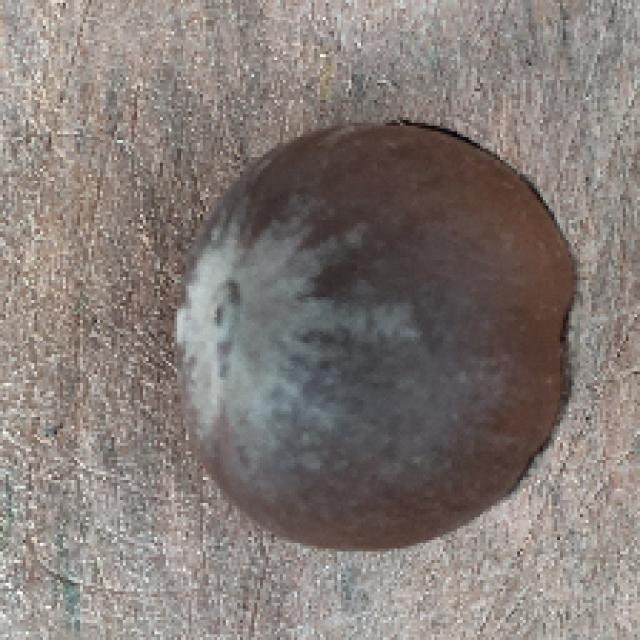damagedHazelnut: (180, 119, 579, 554)
